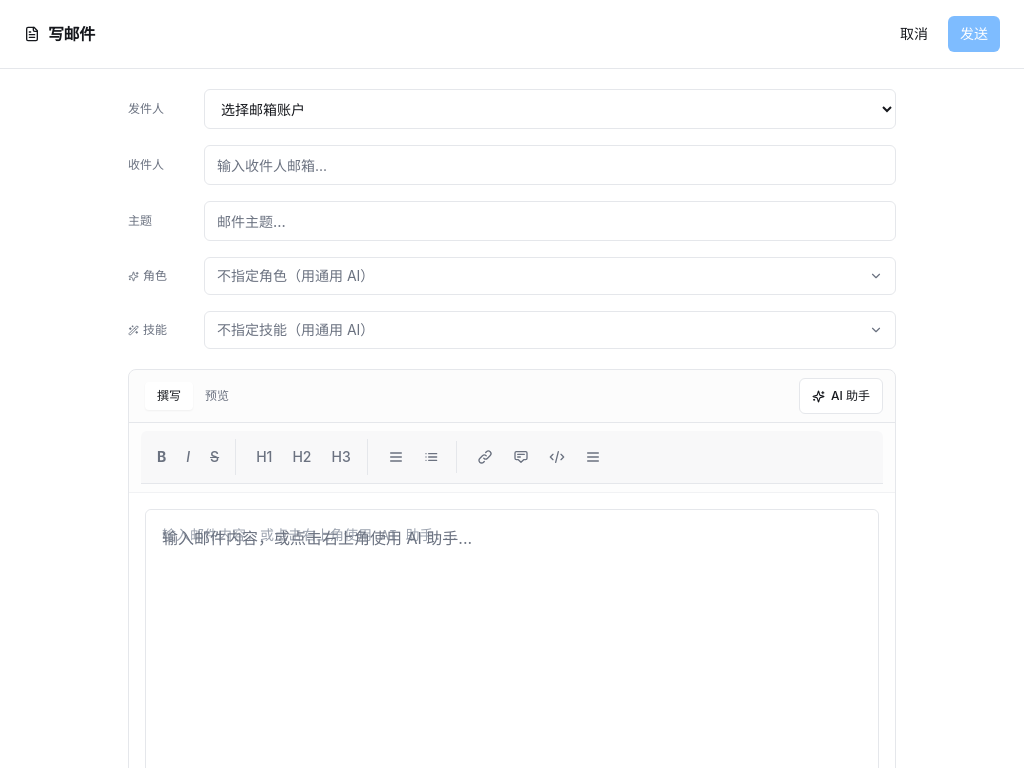
Test: Compose Flow Tests › 标签页切换 › 应该能在撰写和预览之间切换
The image size is (1024, 768).
Expected: the tab "撰写" is shown, [145,382,193,410]
Click the tab "预览". click: click(217, 396)
box: [193,382,241,410]
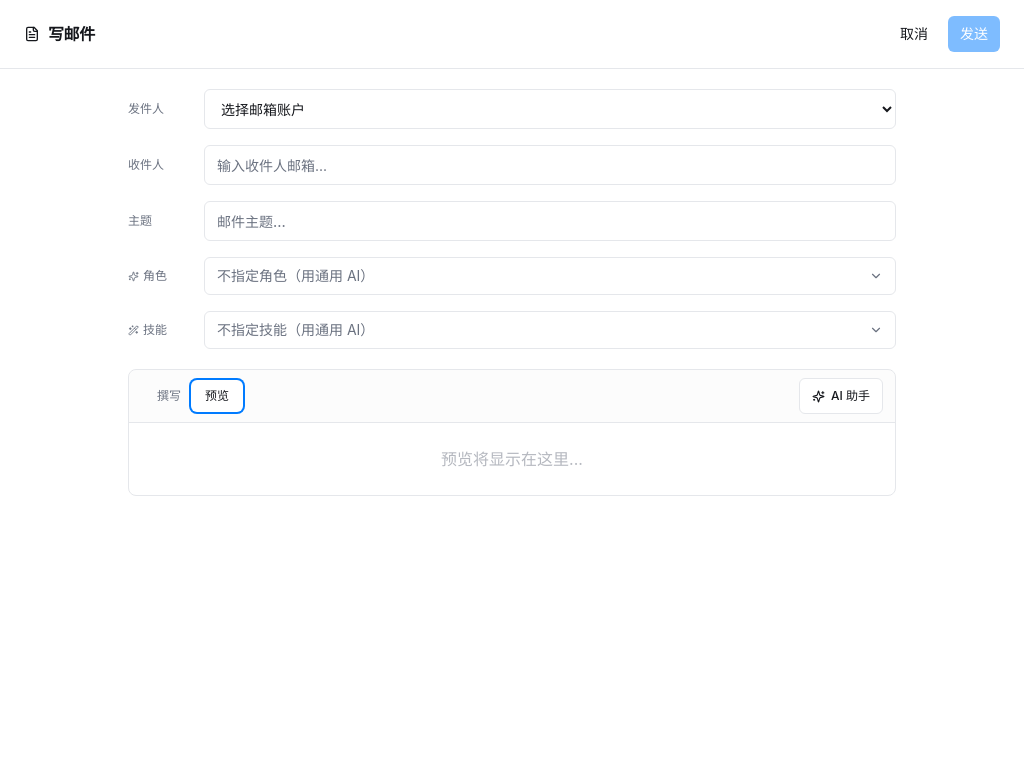
Expected: the text "预览将显示在这里..." is shown, [441,447,583,471]
